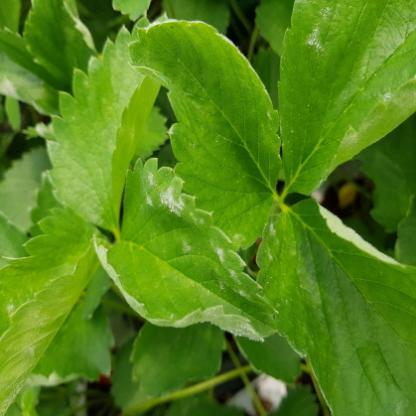Strawberry_Powdery_Mildew_Leaf: (126, 19, 287, 254), (254, 196, 415, 415), (92, 157, 280, 343), (276, 0, 416, 198), (0, 203, 117, 415)
